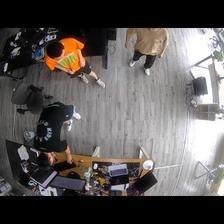normal: (44, 37, 107, 91), (32, 102, 81, 168), (123, 29, 168, 75)
